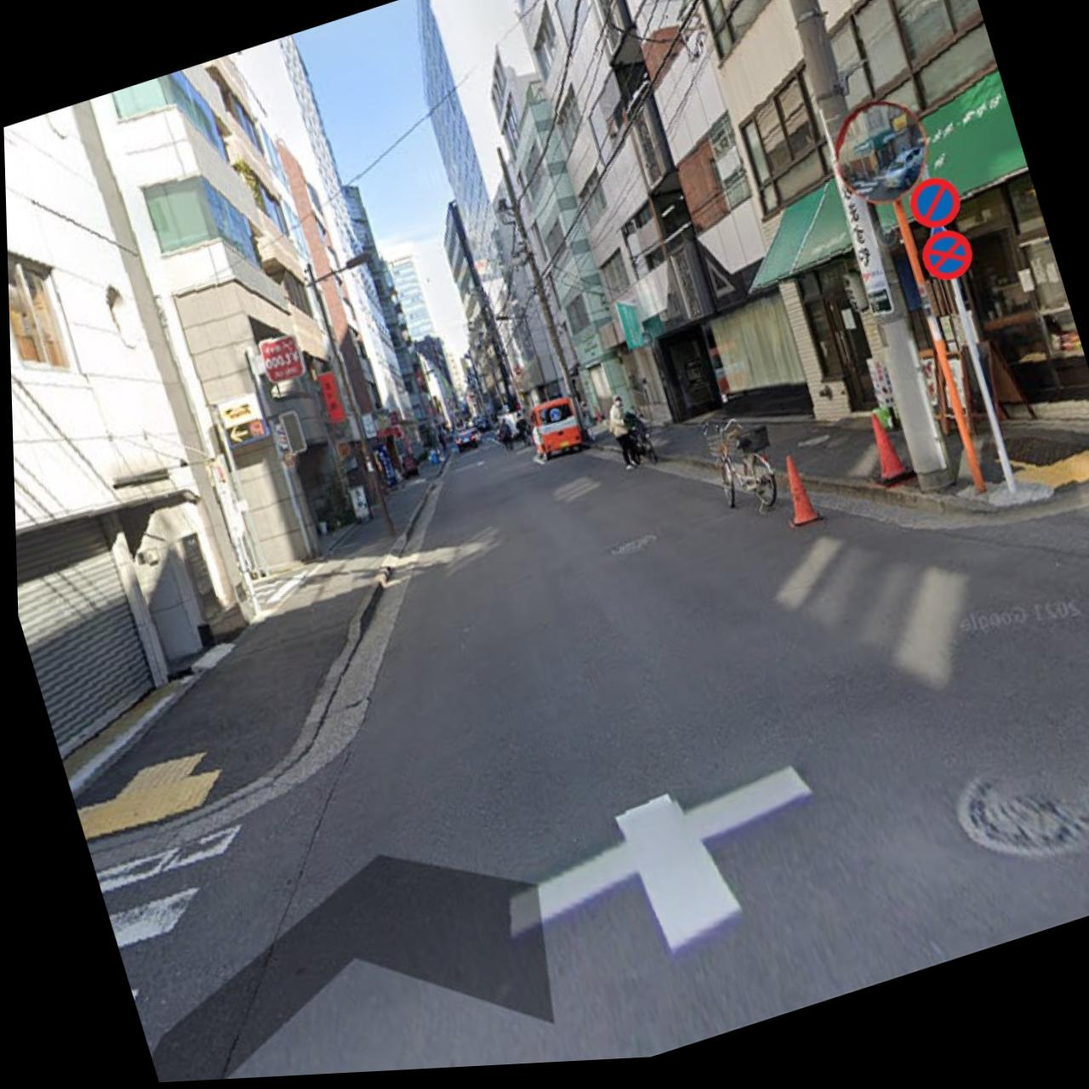stop_sign: (914, 224, 980, 293)
